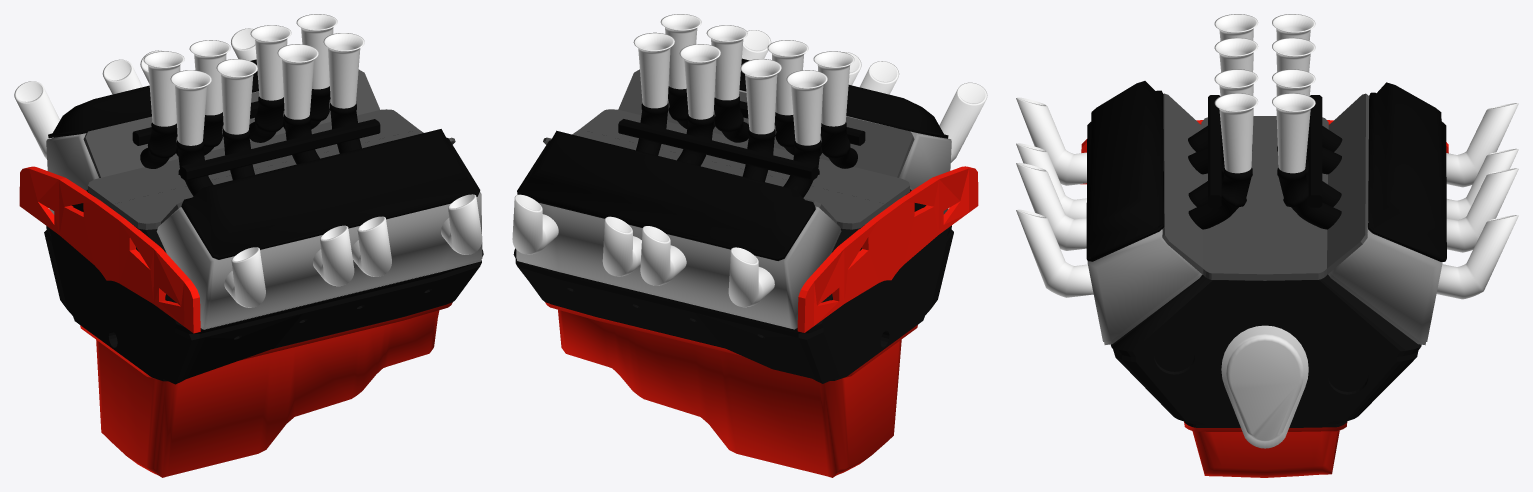
Rendered from engine.fbx.
The picture shows the model from 3 angles, left to right: view 1: azimuth 30°, elevation 25°; view 2: azimuth 150°, elevation 25°; view 3: azimuth 270°, elevation 25°; orthographic projection. The views are drawn at different scales.
Parts seen in each view (by area): view 1: Sump.001, EngineBlock.001, ValveCover.003, CylinderHead.003, EngineMountRear.001, IntakeTrumpet.002, FuelRailRight.001, ValveCover.002, IntakeTrumpet.003, VelocityStack.013, VelocityStack.015, VelocityStack.012 (+21 smaller); view 2: Sump.001, EngineBlock.001, ValveCover.002, CylinderHead.002, EngineMountRear.001, IntakeTrumpet.003, FuelRailLeft.001, IntakeTrumpet.002, ValveCover.003, VelocityStack.011, VelocityStack.008, VelocityStack.009 (+21 smaller); view 3: EngineBlock.001, ValveCover.002, ValveCover.003, IntakeTrumpet.002, IntakeTrumpet.003, TimingCover.001, CylinderHead.003, CylinderHead.002, Sump.001, ExhaustPipe.011, ExhaustPipe.008, ExhaustPipe.015 (+17 smaller).
Boxes of the visible parts, x1,y1,x2,y2 form: Sump.001: (80, 302, 452, 477); EngineBlock.001: (44, 190, 483, 384); ValveCover.003: (181, 129, 480, 259); CylinderHead.003: (156, 192, 482, 329); EngineMountRear.001: (19, 166, 200, 333); IntakeTrumpet.002: (83, 69, 418, 209); FuelRailRight.001: (180, 119, 380, 180); ValveCover.002: (48, 59, 258, 138); IntakeTrumpet.003: (113, 129, 455, 229); VelocityStack.013: (216, 59, 257, 134); VelocityStack.015: (323, 33, 364, 108); VelocityStack.012: (170, 70, 211, 145); Sump.001: (545, 302, 917, 477); EngineBlock.001: (513, 189, 953, 383); ValveCover.002: (517, 130, 815, 260); CylinderHead.002: (516, 193, 841, 329); EngineMountRear.001: (797, 166, 978, 332); IntakeTrumpet.003: (580, 69, 914, 209); FuelRailLeft.001: (618, 119, 817, 180); IntakeTrumpet.002: (543, 129, 884, 229); ValveCover.003: (739, 58, 948, 138); VelocityStack.011: (633, 32, 674, 108); VelocityStack.008: (786, 70, 827, 145); VelocityStack.009: (740, 59, 781, 134); EngineBlock.001: (1110, 274, 1421, 427); ValveCover.002: (1368, 82, 1446, 261); ValveCover.003: (1086, 81, 1164, 261); IntakeTrumpet.002: (1265, 93, 1369, 280); IntakeTrumpet.003: (1162, 93, 1264, 280); TimingCover.001: (1221, 325, 1308, 448); CylinderHead.003: (1087, 229, 1202, 344); CylinderHead.002: (1328, 95, 1442, 345); Sump.001: (1184, 421, 1347, 477); ExhaustPipe.011: (1016, 209, 1093, 297); ExhaustPipe.008: (1436, 215, 1518, 299); ExhaustPipe.015: (1446, 168, 1518, 252).
Size of the model in its own units: 6440 by 5785 by 5100.
